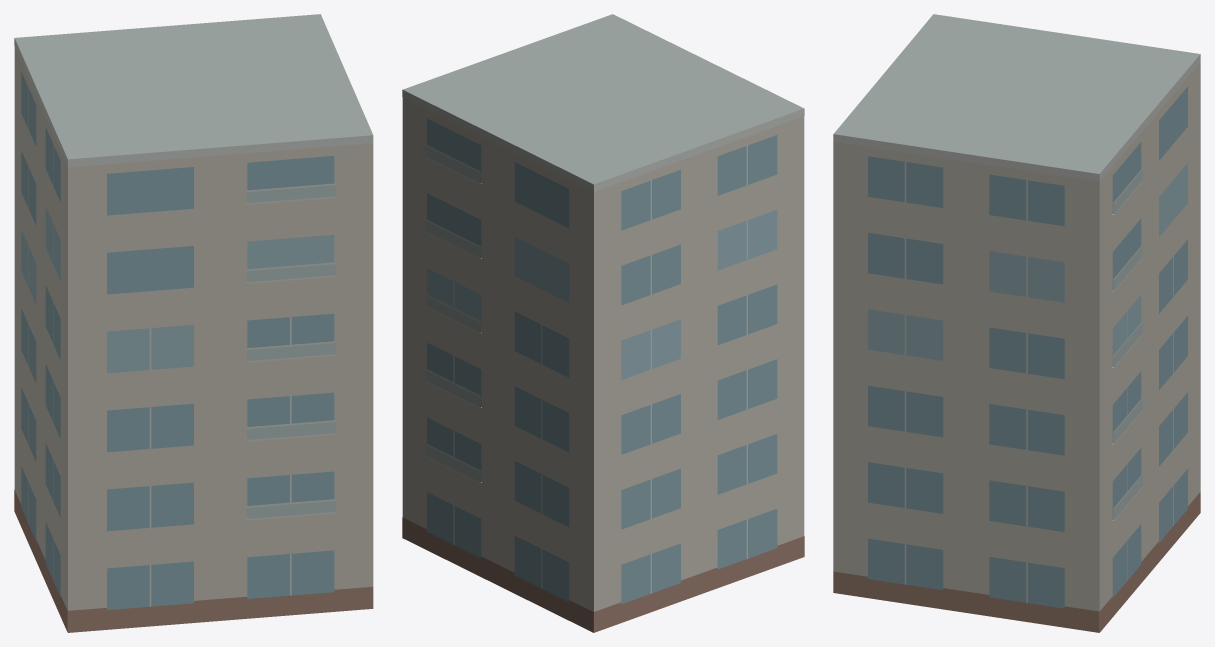
The model's file is survey-upis-32893547.glb.
The picture shows the model from 3 angles, left to right: view 1: azimuth 30°, elevation 25°; view 2: azimuth 150°, elevation 25°; view 3: azimuth 270°, elevation 25°; orthographic projection. The views are drawn at different scales.
Parts seen in each view (by area): view 1: survey-upis-32893547.tmp; view 2: survey-upis-32893547.tmp; view 3: survey-upis-32893547.tmp.
Boxes of the visible parts, x1,y1,x2,y2 form: survey-upis-32893547.tmp: [14, 14, 373, 632]; survey-upis-32893547.tmp: [402, 14, 804, 632]; survey-upis-32893547.tmp: [833, 14, 1200, 632].
Size of the model in its own units: 10.85 by 14.48 by 10.51.
